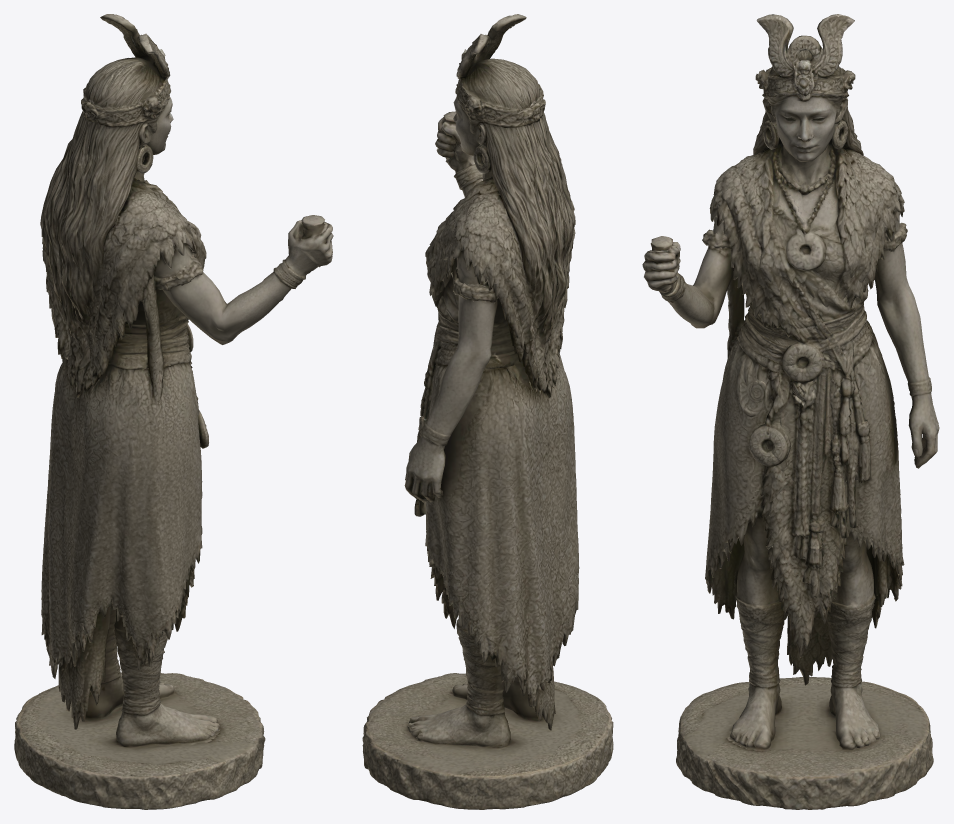
Rendered from ancient_warrior_statue_3d_model.fbx.
3 renders of one model, left to right at view 1: azimuth 30°, elevation 25°; view 2: azimuth 150°, elevation 25°; view 3: azimuth 270°, elevation 25°, orthographic.
Parts seen in each view (by area): view 1: tripo_node_77754590; view 2: tripo_node_77754590; view 3: tripo_node_77754590.
Part boxes in pixels (x1,y1,x2,y2): tripo_node_77754590: (14, 14, 333, 809); tripo_node_77754590: (362, 14, 613, 809); tripo_node_77754590: (642, 14, 939, 809).
Size of the model in its own units: 0.3172 by 0.98 by 0.3566.
